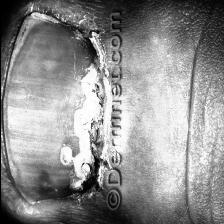Toxin: (58, 13, 108, 214)
